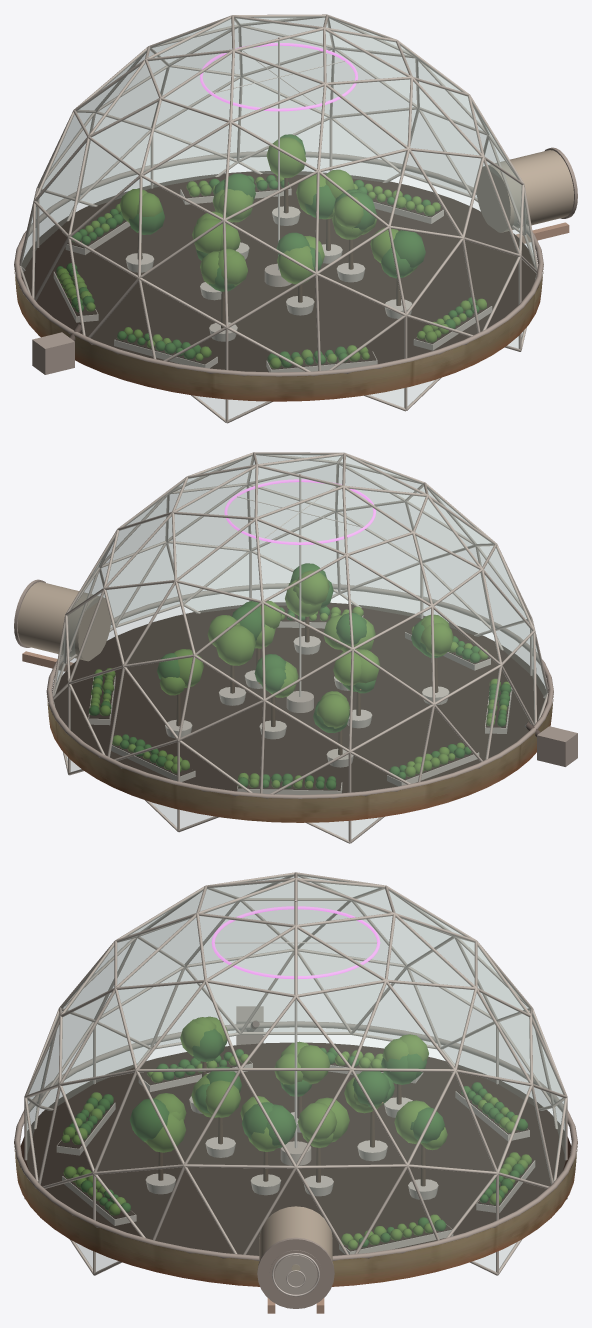
Rendered from A06_greenhouse_dome_18m.glb.
3 renders of one model, top to bottom at view 1: azimuth 30°, elevation 25°; view 2: azimuth 150°, elevation 25°; view 3: azimuth 270°, elevation 25°, orthographic. The views are drawn at different scales.
Parts seen in each view (by area): view 1: dome_glazing, strut, ring_wall, ring_beam, grow_light_ring, seal; view 2: dome_glazing, strut, ring_wall, ring_beam, grow_light_ring, seal; view 3: dome_glazing, strut, ring_wall, ring_beam, grow_light_ring, seal.
Part boxes in pixels (<box>): dome_glazing: <box>20,16,536,419</box>; strut: <box>19,14,573,423</box>; ring_wall: <box>14,269,543,401</box>; ring_beam: <box>14,147,577,376</box>; grow_light_ring: <box>200,43,357,111</box>; seal: <box>213,37,344,270</box>; dome_glazing: <box>53,454,547,839</box>; strut: <box>17,452,549,843</box>; ring_wall: <box>46,694,553,822</box>; ring_beam: <box>14,579,577,798</box>; grow_light_ring: <box>224,479,375,544</box>; seal: <box>237,473,362,696</box>; dome_glazing: <box>26,874,565,1271</box>; strut: <box>19,872,572,1294</box>; ring_wall: <box>14,1143,577,1286</box>; ring_beam: <box>14,1006,577,1308</box>; grow_light_ring: <box>211,906,380,978</box>; seal: <box>214,900,377,1296</box>.
Bounding box in the file's own units: 21.86 × 10.76 × 18.4.
8 materials, 1 textured.
